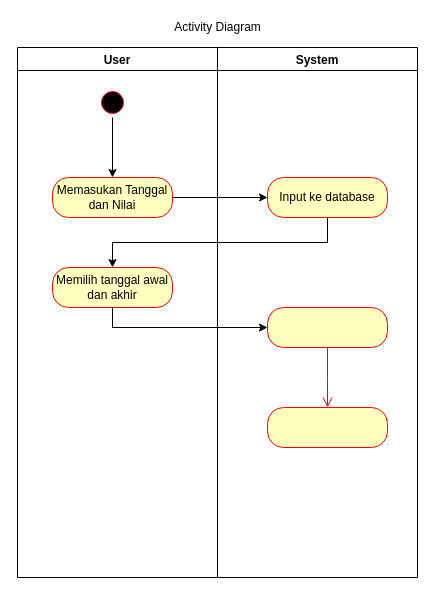
This 435x595 diagram has some shape labels left out. The shapes that lost their labels are listed below. From the top down, each one's box as (x1, y1, x2, y2) in pixels, then its label:
(266, 306, 388, 348): Proses forcasting
(266, 406, 388, 448): Menampilkan Hasil
